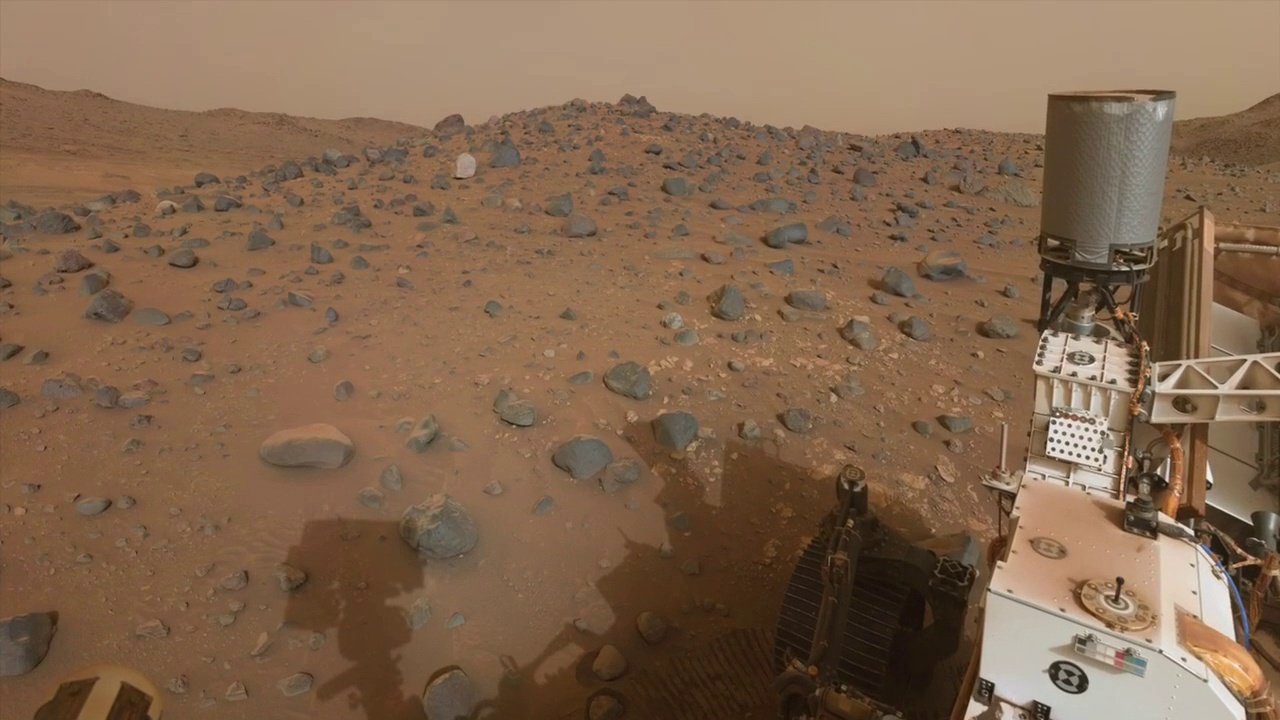rock: (551, 440, 614, 494), (867, 267, 921, 307), (602, 370, 649, 401), (706, 286, 746, 321), (1100, 577, 1134, 615), (910, 421, 951, 449), (887, 315, 928, 342), (775, 409, 817, 435), (974, 319, 1021, 340), (836, 319, 866, 350), (783, 293, 830, 311), (934, 415, 975, 435)
